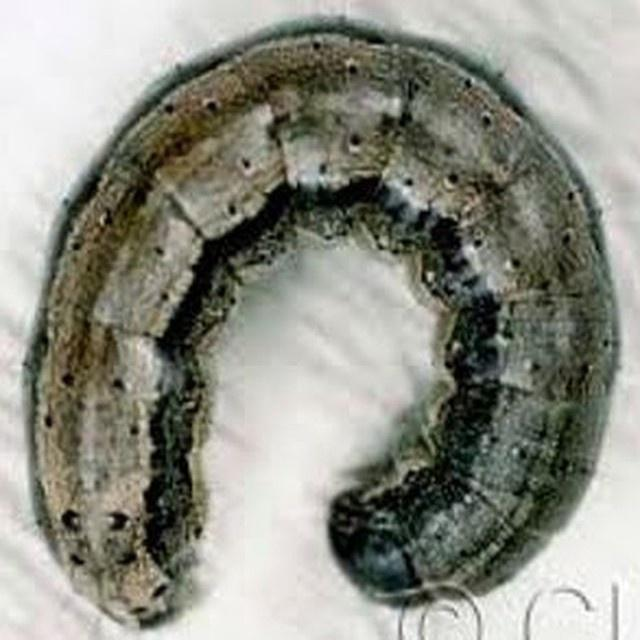gusano_cogollero: (22, 12, 620, 633)
